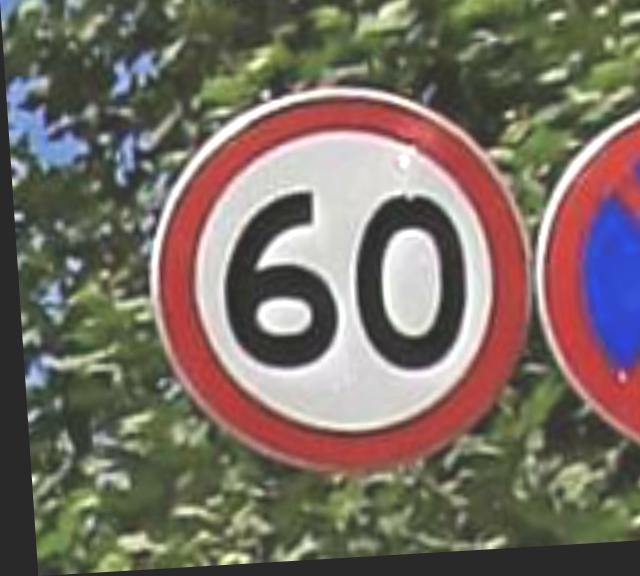limit60: (97, 92, 545, 487)
